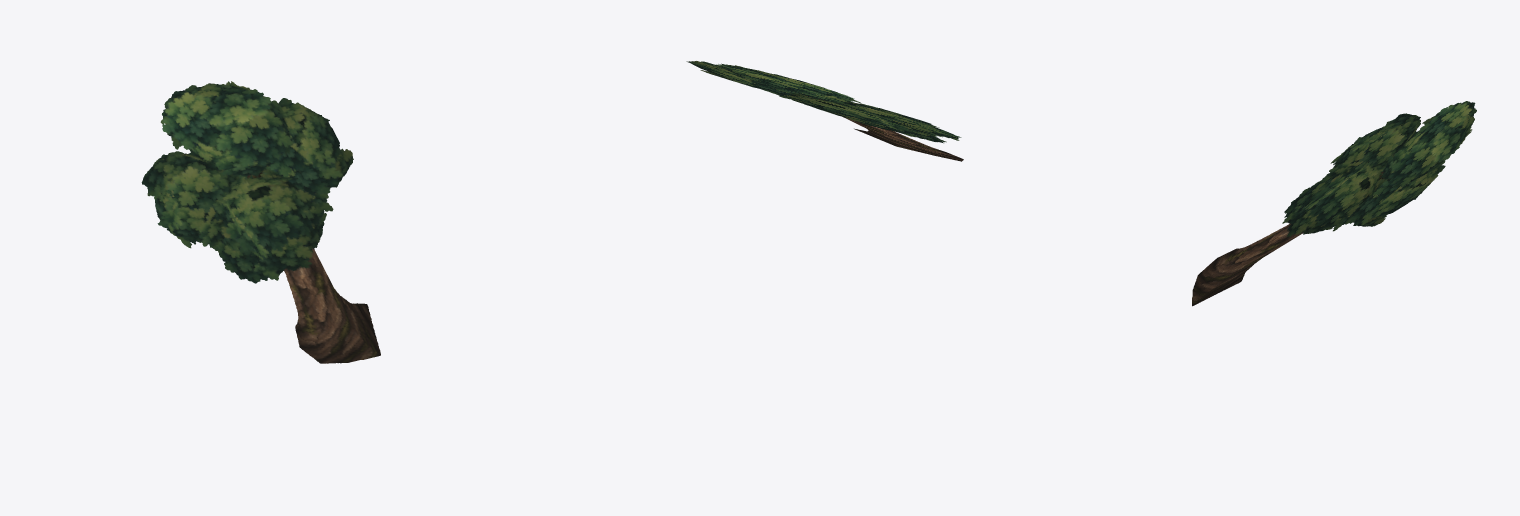
File: tree_hill_oak_lod2.glb
3 views of the same model, side by side, from view 1: azimuth 30°, elevation 25°; view 2: azimuth 150°, elevation 25°; view 3: azimuth 270°, elevation 25° (orthographic). The views are drawn at different scales.
Parts seen in each view (by area): view 1: tree_hill_oak_lod2; view 2: tree_hill_oak_lod2; view 3: tree_hill_oak_lod2.
Boxes of the visible parts, box(x1,y1,x2,y2) form: tree_hill_oak_lod2: box(141, 81, 380, 363); tree_hill_oak_lod2: box(686, 61, 963, 161); tree_hill_oak_lod2: box(1192, 101, 1476, 306).
Bounding box in the file's own units: 4.6 × 5.24 × 3.81.
1 material, 1 textured.
